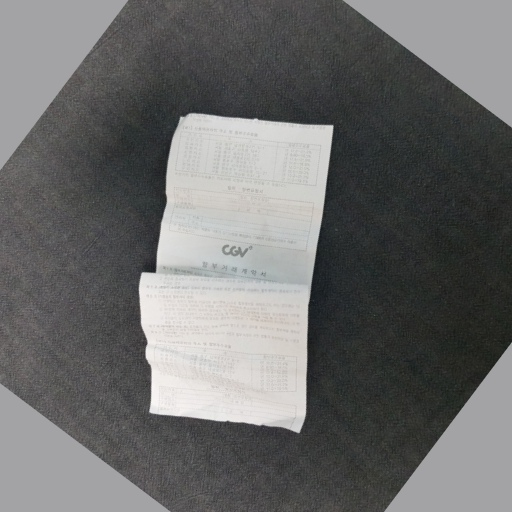Paper_3: (140, 94, 350, 437)
